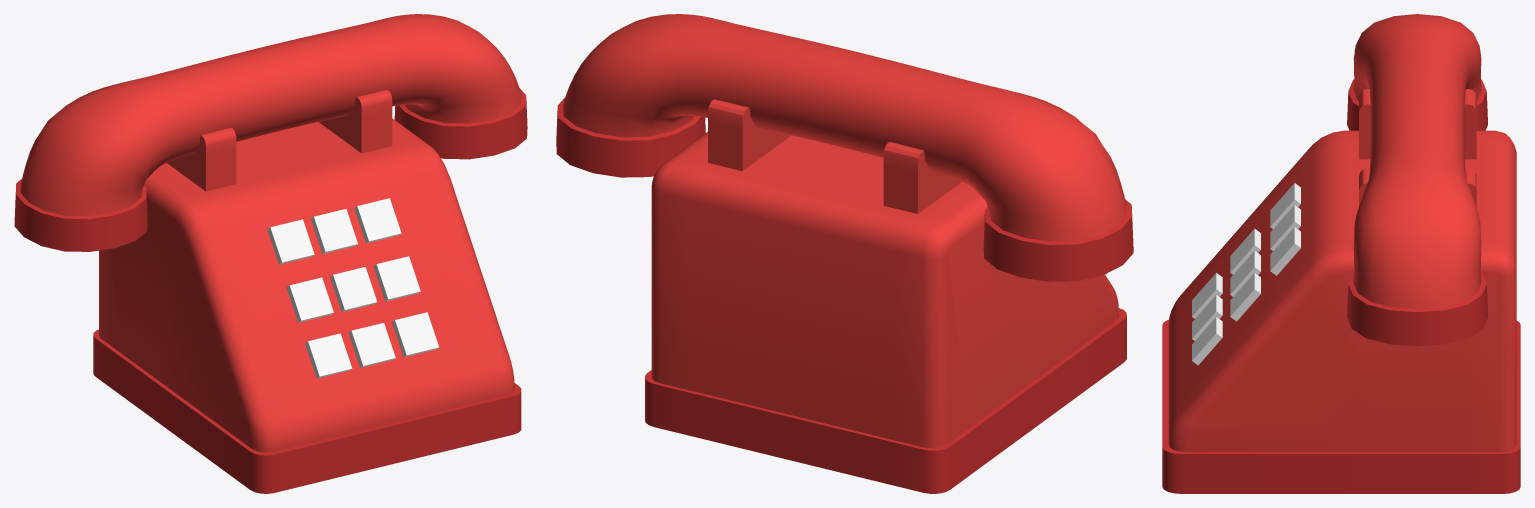
Rendered from telephone.fbx.
3 views of the same model, side by side, from view 1: azimuth 30°, elevation 25°; view 2: azimuth 150°, elevation 25°; view 3: azimuth 270°, elevation 25° (orthographic). The views are drawn at different scales.
Parts seen in each view (by area): view 1: Cube.919; view 2: Cube.919; view 3: Cube.919.
Part boxes in pixels (bbox=[...]): Cube.919: bbox=[14, 14, 527, 493]; Cube.919: bbox=[556, 14, 1133, 493]; Cube.919: bbox=[1162, 14, 1520, 493].
Size of the model in its own units: 257 by 162 by 156.
Materials: 1 (1 with a texture image).
